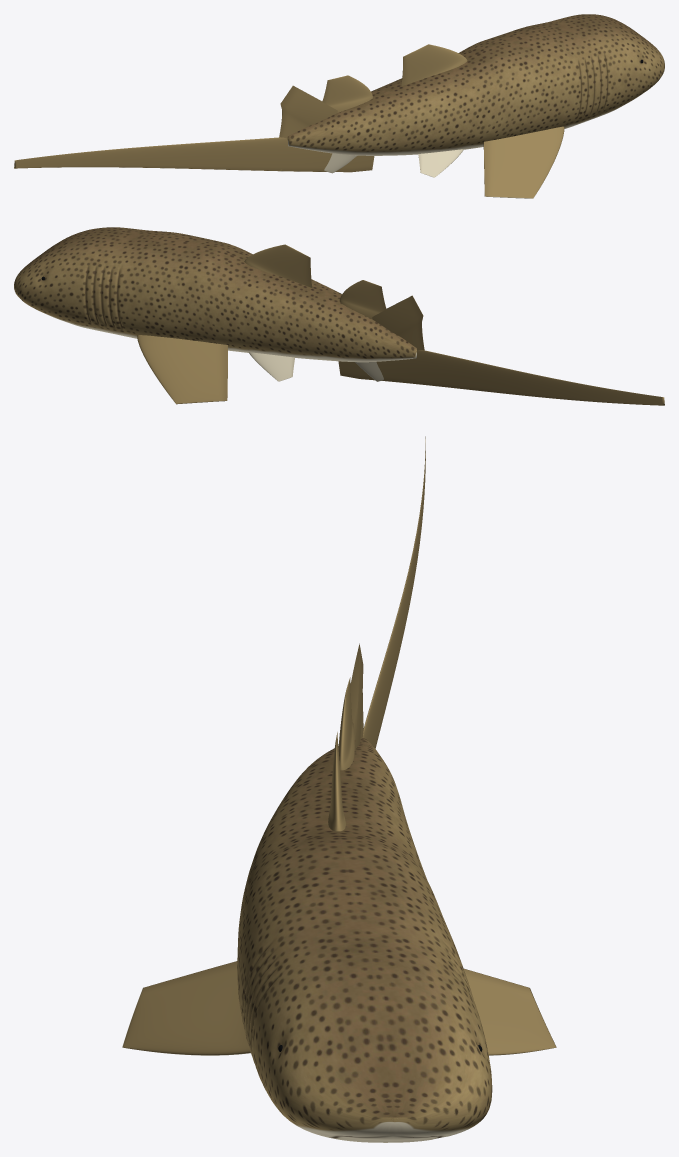
The model's file is zebra_shark.glb.
3 renders of one model, top to bottom at view 1: azimuth 30°, elevation 25°; view 2: azimuth 150°, elevation 25°; view 3: azimuth 270°, elevation 25°, orthographic. The views are drawn at different scales.
Parts seen in each view (by area): view 1: ZebraShark_Body, ZebraShark_Fins; view 2: ZebraShark_Body, ZebraShark_Fins; view 3: ZebraShark_Body, ZebraShark_Fins.
Part boxes in pixels (left/top/right/bottom): ZebraShark_Body: left=287, top=14, right=664, bottom=155; ZebraShark_Fins: left=14, top=44, right=564, bottom=198; ZebraShark_Body: left=14, top=227, right=416, bottom=362; ZebraShark_Fins: left=137, top=244, right=664, bottom=405; ZebraShark_Body: left=237, top=738, right=492, bottom=1142; ZebraShark_Fins: left=122, top=436, right=556, bottom=1055.
Bounding box in the file's own units: 2.5 × 0.4834 × 0.7451.
3 materials, 1 textured.
